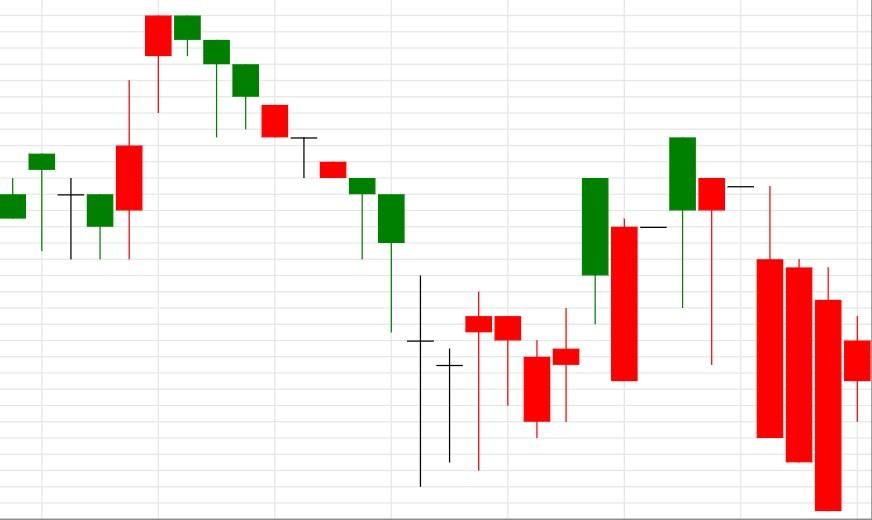hanging_man_fall: (523, 136, 725, 438)
three_black_crows_fall: (86, 15, 260, 259)
